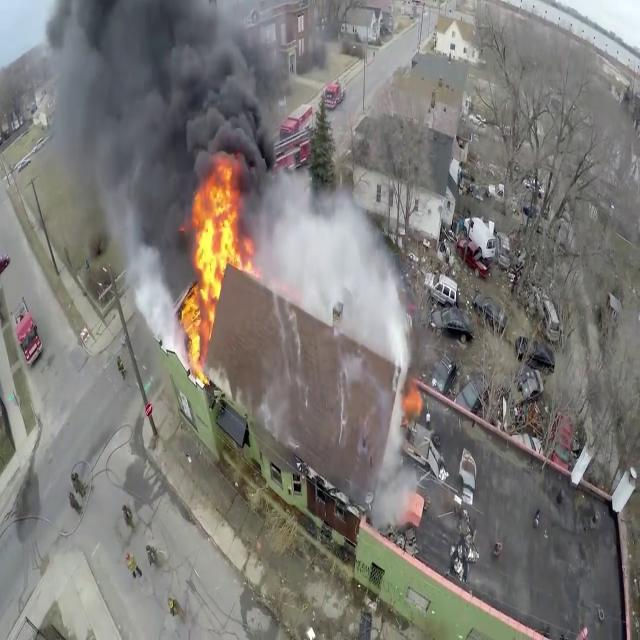Fire: (178, 158, 254, 376)
Smoke: (31, 0, 292, 236), (262, 165, 416, 369)
